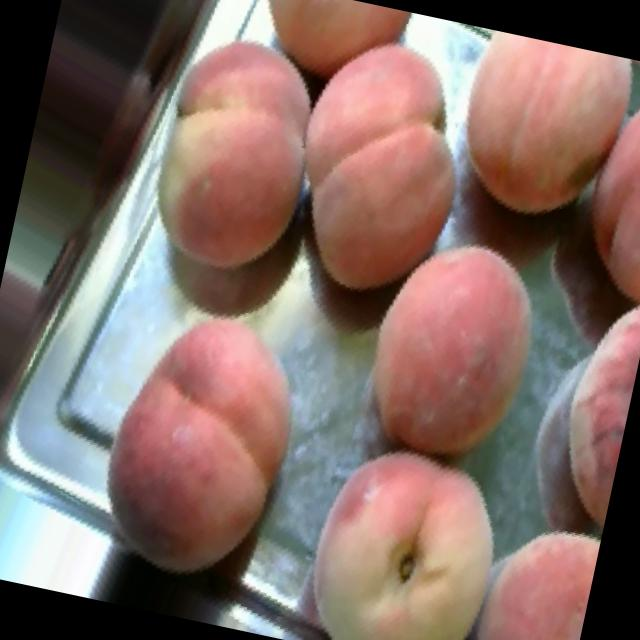Fruit: (64, 276, 342, 608), (270, 1, 514, 334), (324, 205, 579, 500), (104, 0, 343, 306), (279, 409, 521, 640), (418, 23, 640, 261), (521, 261, 640, 551), (219, 0, 432, 117), (465, 496, 605, 640), (580, 59, 640, 323)
